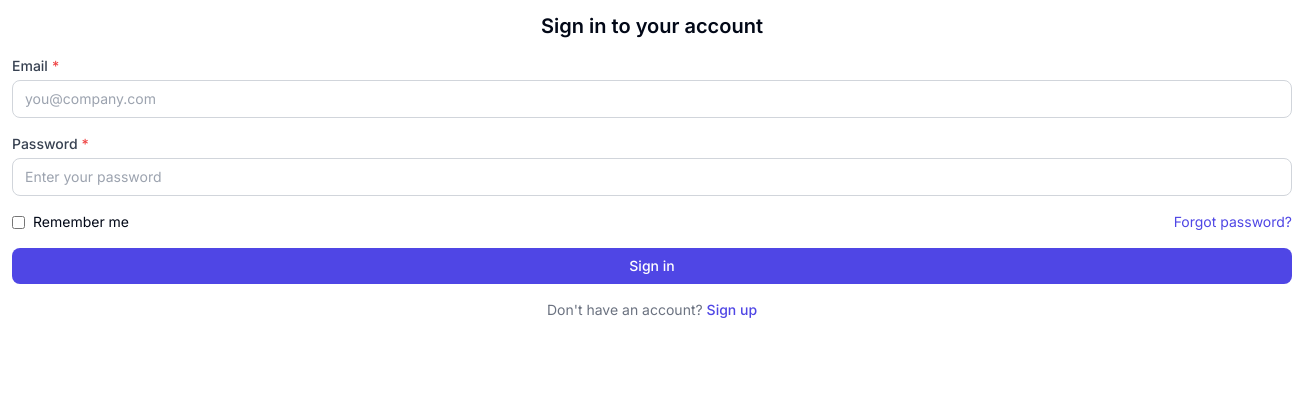
it: LoginPage › form submission › should display error message when login fails
This screenshot has width=1304, height=395.
Type "wrong@test.com" into the field with placeholder "you@company.com" at (652, 99), box [12,80,1292,118]
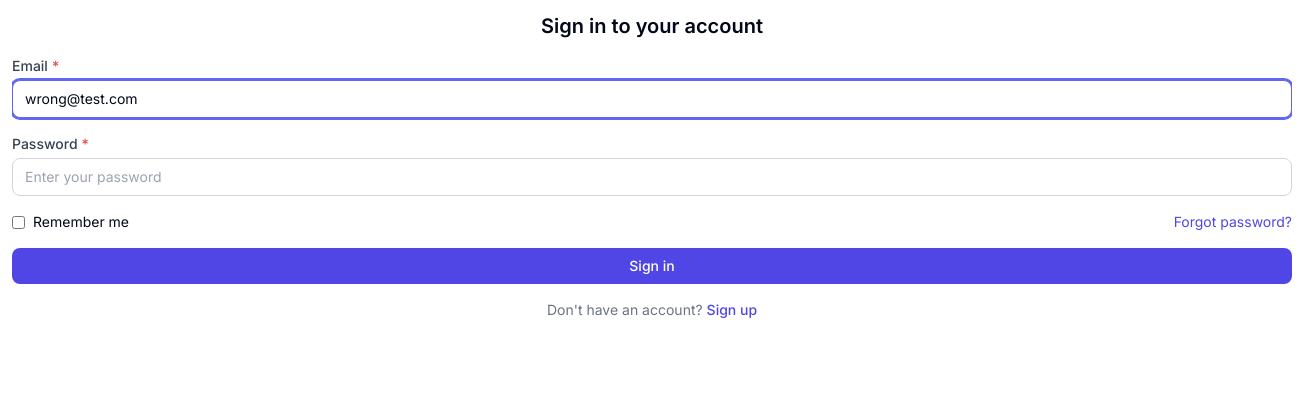
Type "WrongPass" into the password field with placeholder "Enter your password" at (652, 177), box [12,158,1292,196]
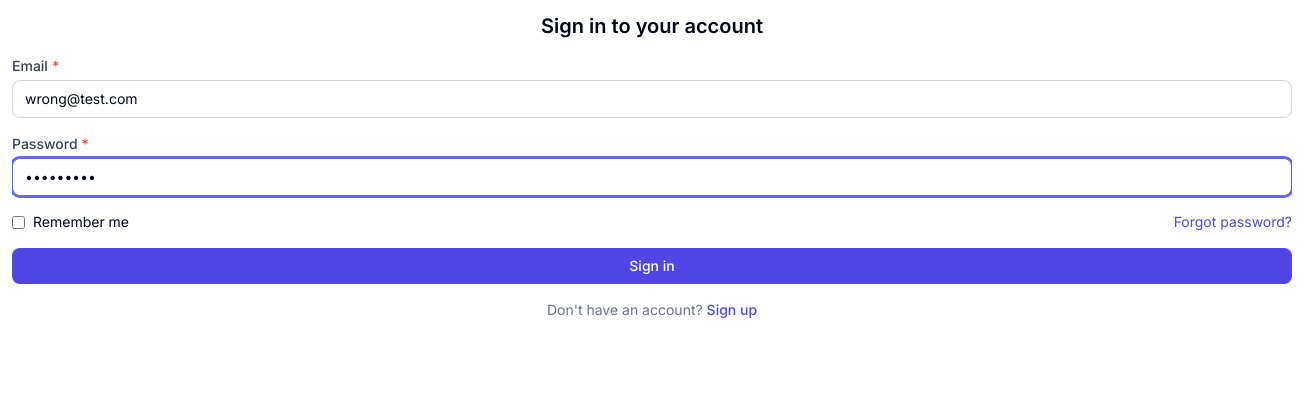
Click the button "Sign in" at (652, 266), box [12,248,1292,284]
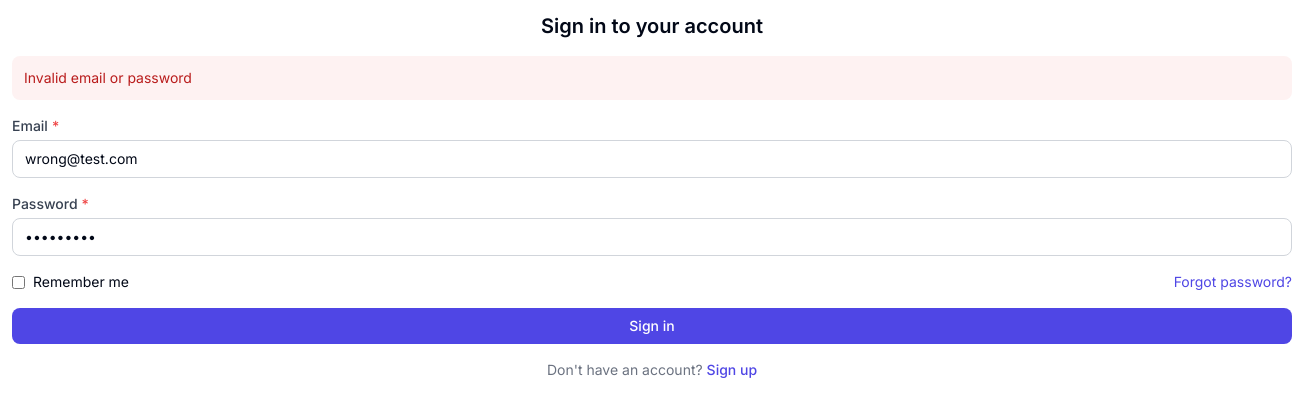
Now the text "Invalid email or password" is shown, box [12,56,1292,100]
